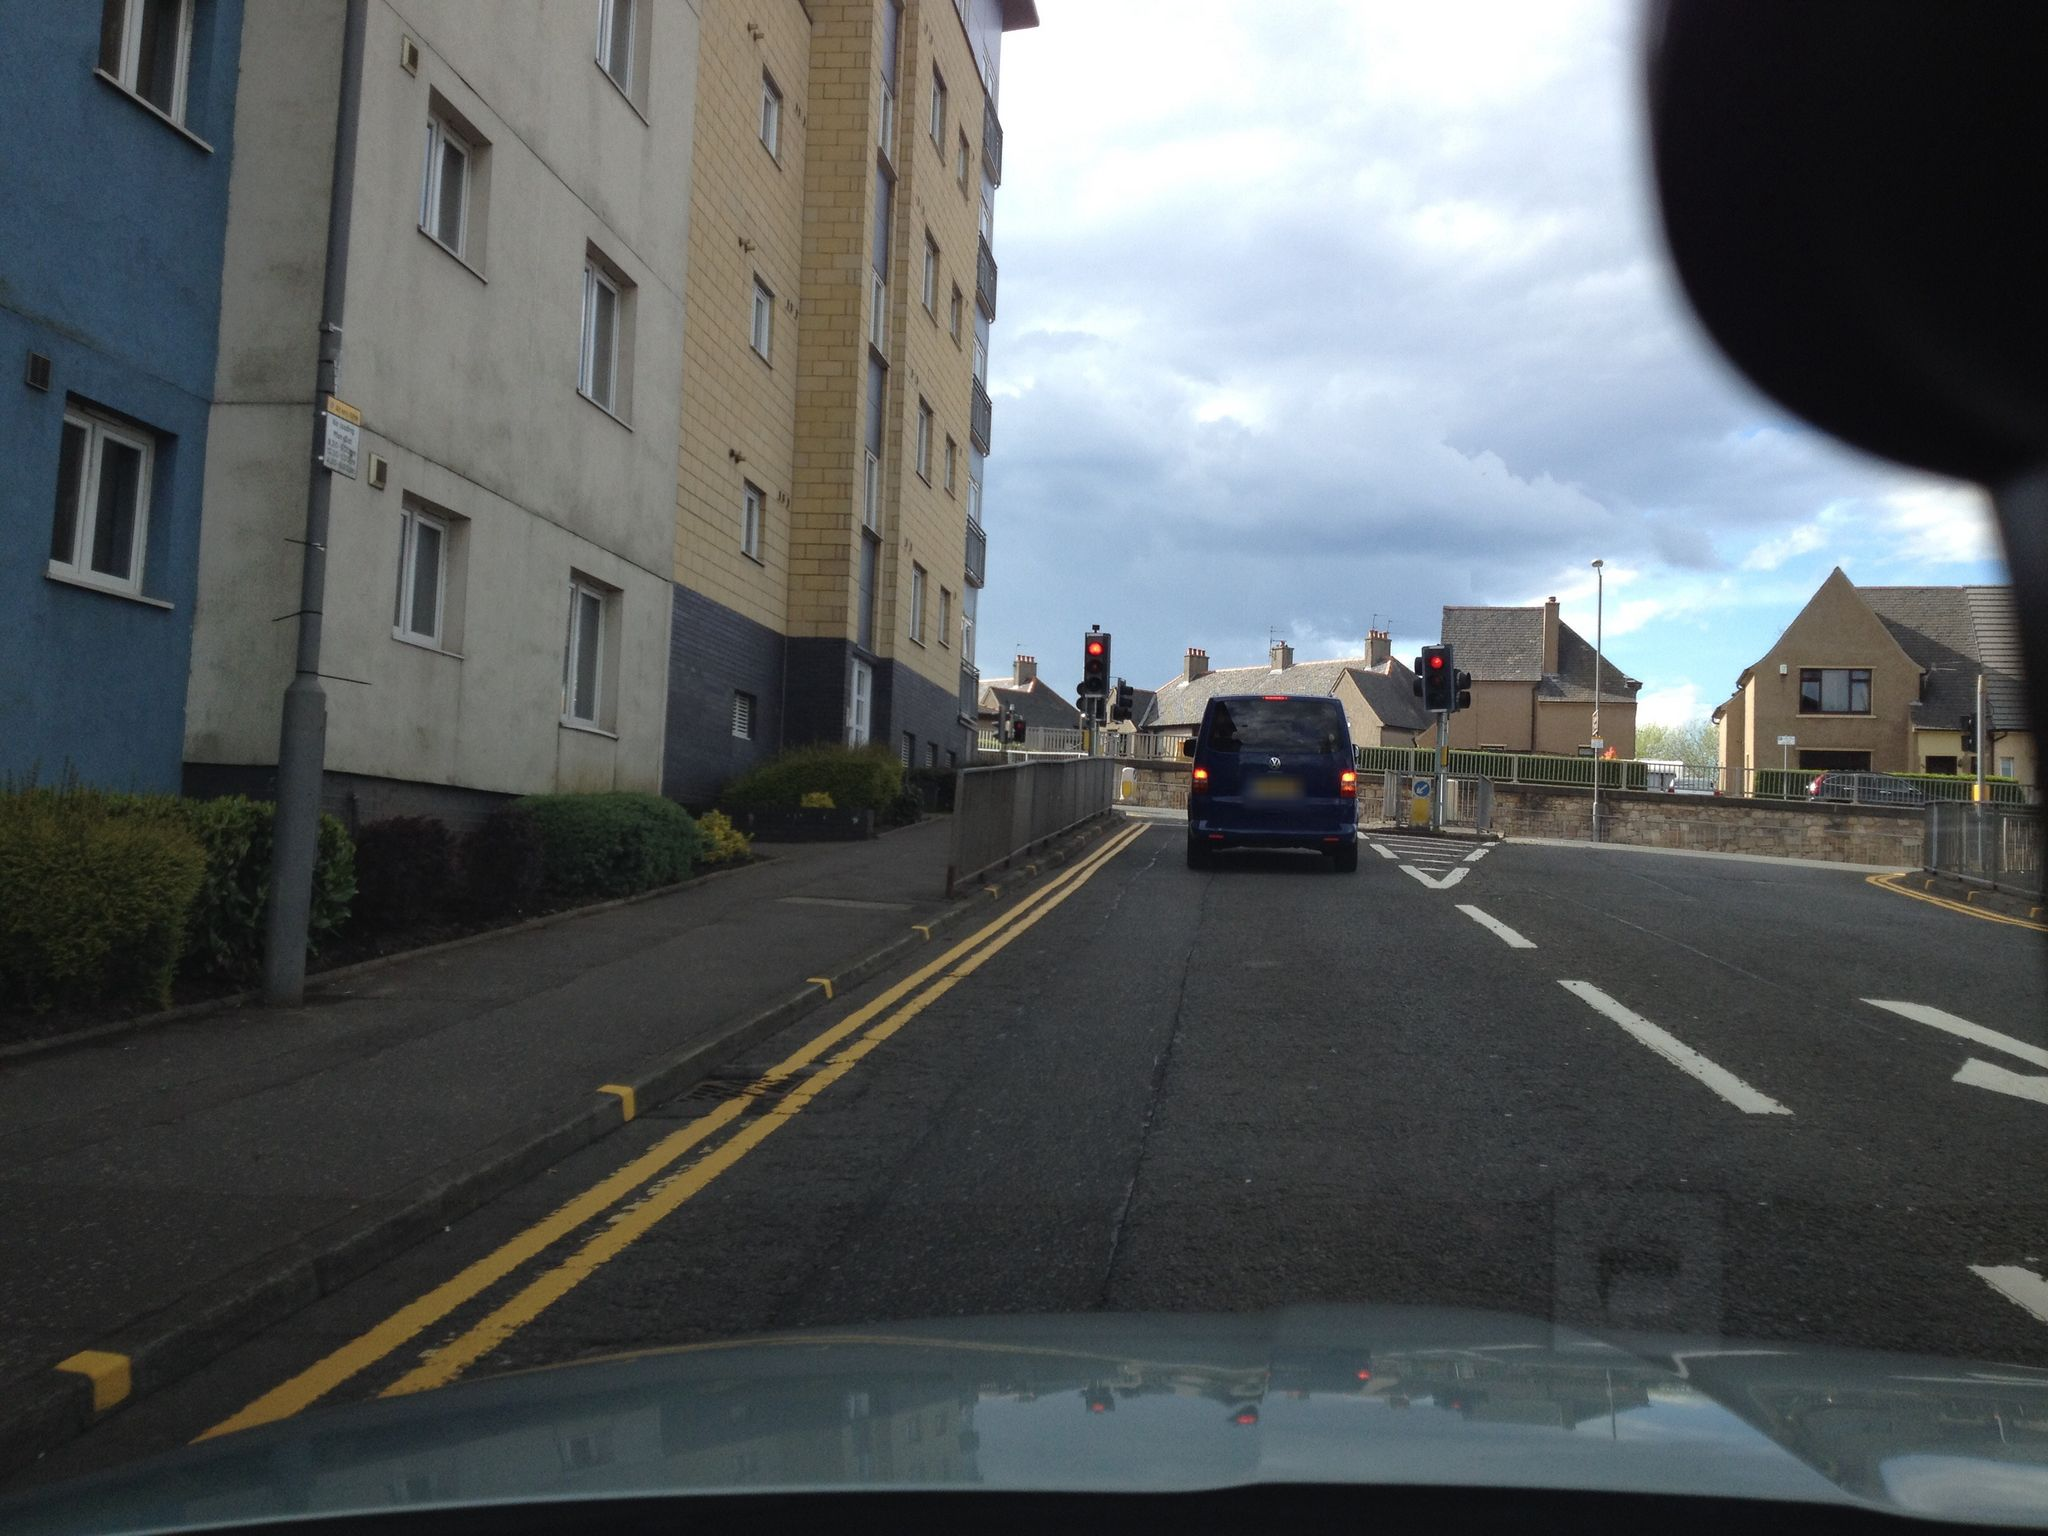car: (1182, 694, 1359, 871)
